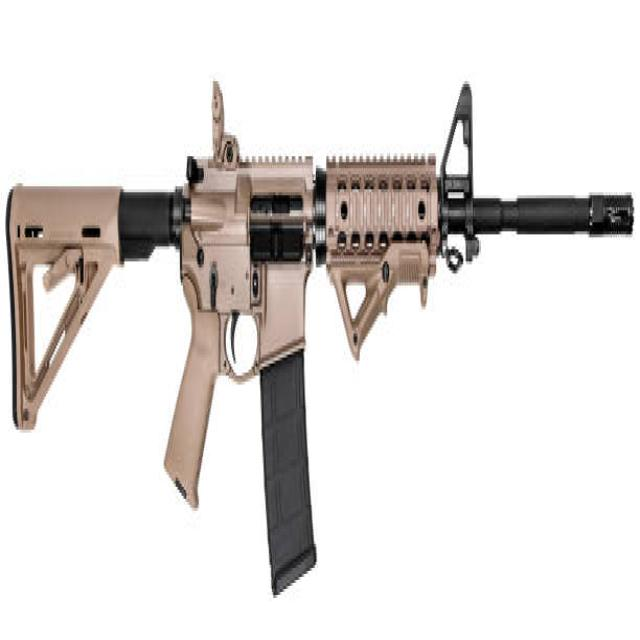rifle: (1, 67, 636, 627)
